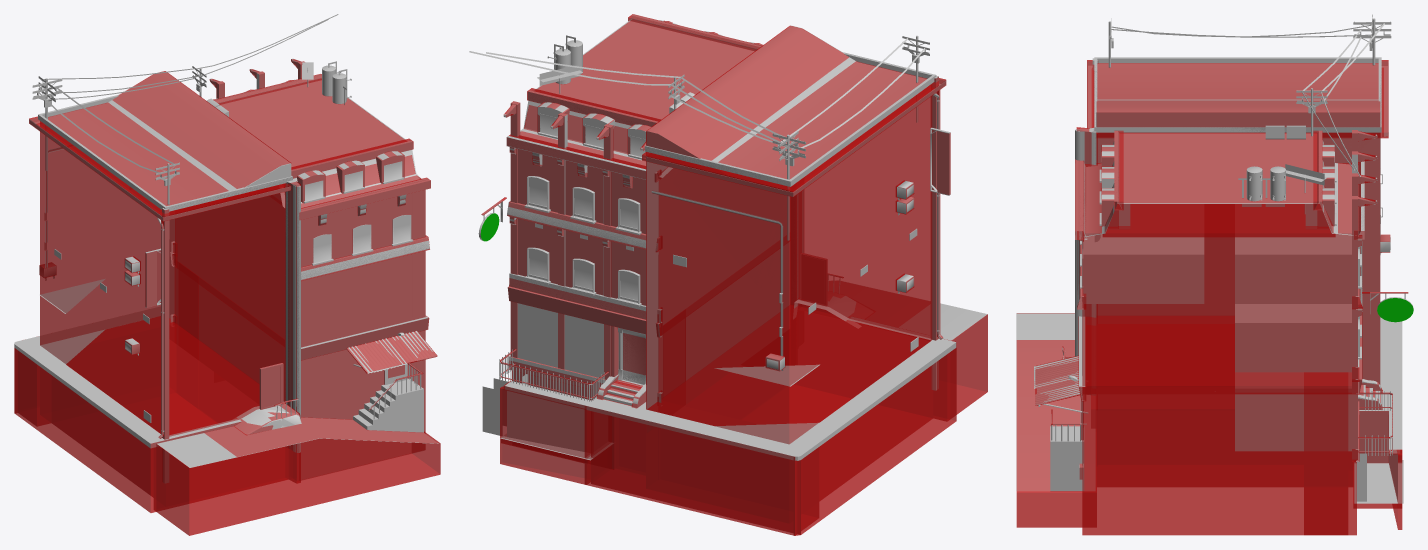
File: CT_building_029.dae
3 views of the same model, side by side, from view 1: azimuth 30°, elevation 25°; view 2: azimuth 150°, elevation 25°; view 3: azimuth 270°, elevation 25° (orthographic). The views are drawn at different scales.
Parts seen in each view (by area): view 1: ColMesh-2, _029_building100, _029_building400, _029_building800; view 2: ColMesh-2, _029_building100, _029_building800, _029_building400; view 3: ColMesh-2, _029_building100, _029_building400, _029_building800.
Part boxes in pixels (x1=…): ColMesh-2: x1=14, y1=59, x2=440, y2=535; _029_building100: x1=14, y1=14, x2=438, y2=482; _029_building400: x1=38, y1=59, x2=436, y2=478; _029_building800: x1=30, y1=59, x2=436, y2=452; ColMesh-2: x1=481, y1=14, x2=987, y2=535; _029_building100: x1=469, y1=14, x2=987, y2=460; _029_building800: x1=478, y1=16, x2=945, y2=459; _029_building400: x1=499, y1=16, x2=935, y2=401; ColMesh-2: x1=1016, y1=60, x2=1408, y2=535; _029_building100: x1=1016, y1=18, x2=1412, y2=501; _029_building400: x1=1038, y1=57, x2=1392, y2=479; _029_building800: x1=1034, y1=14, x2=1413, y2=503.
Bounding box in the file's own units: 189 × 199 × 189.
